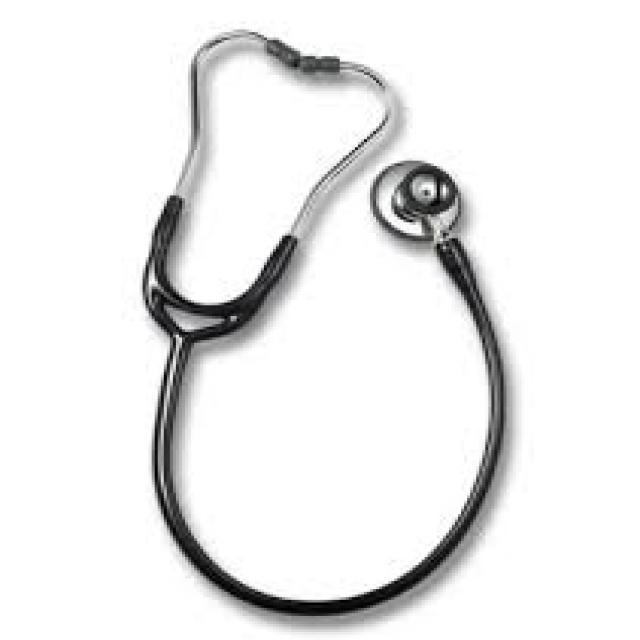stethoscope: (130, 41, 535, 605)
